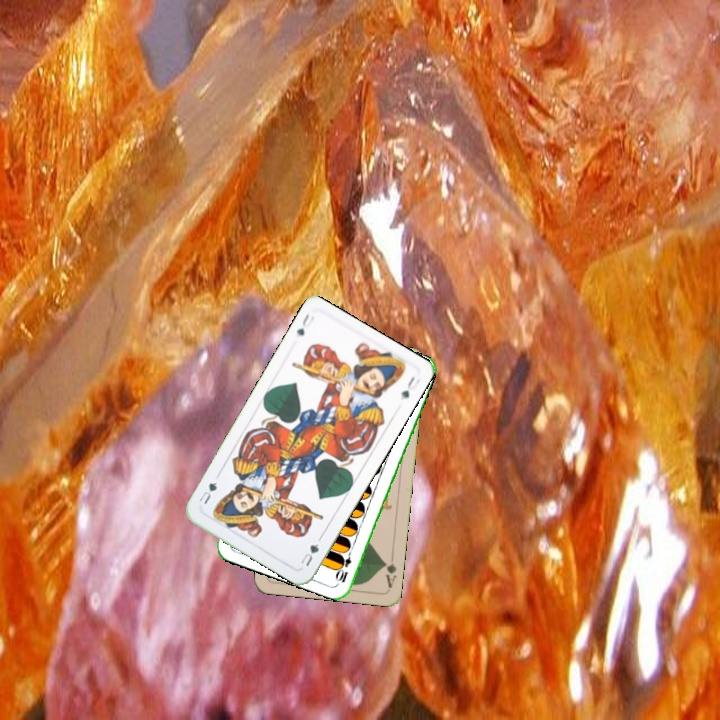E10: (334, 545, 355, 585)
GA: (380, 550, 399, 591)
GU: (297, 533, 324, 569), (292, 310, 317, 338)
